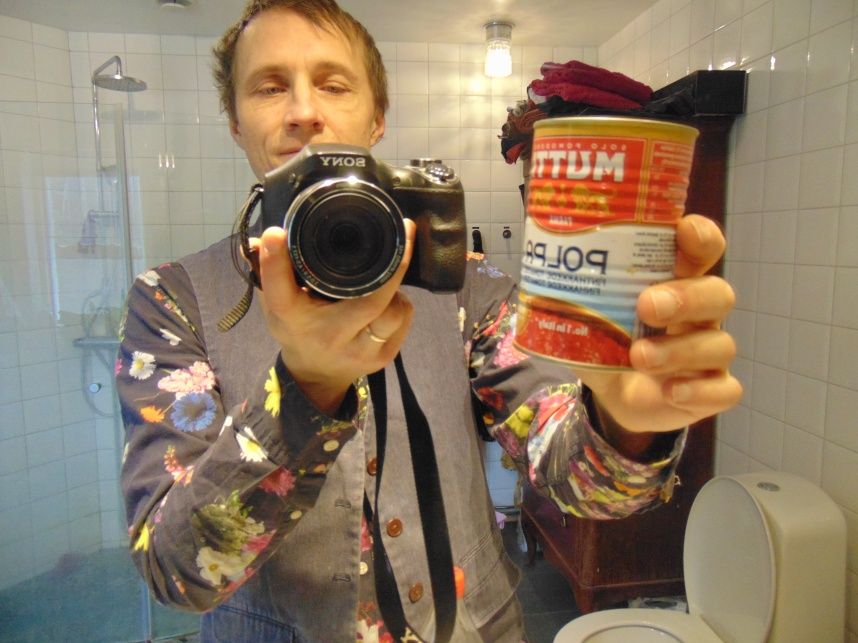metal_can: (509, 117, 701, 374)
